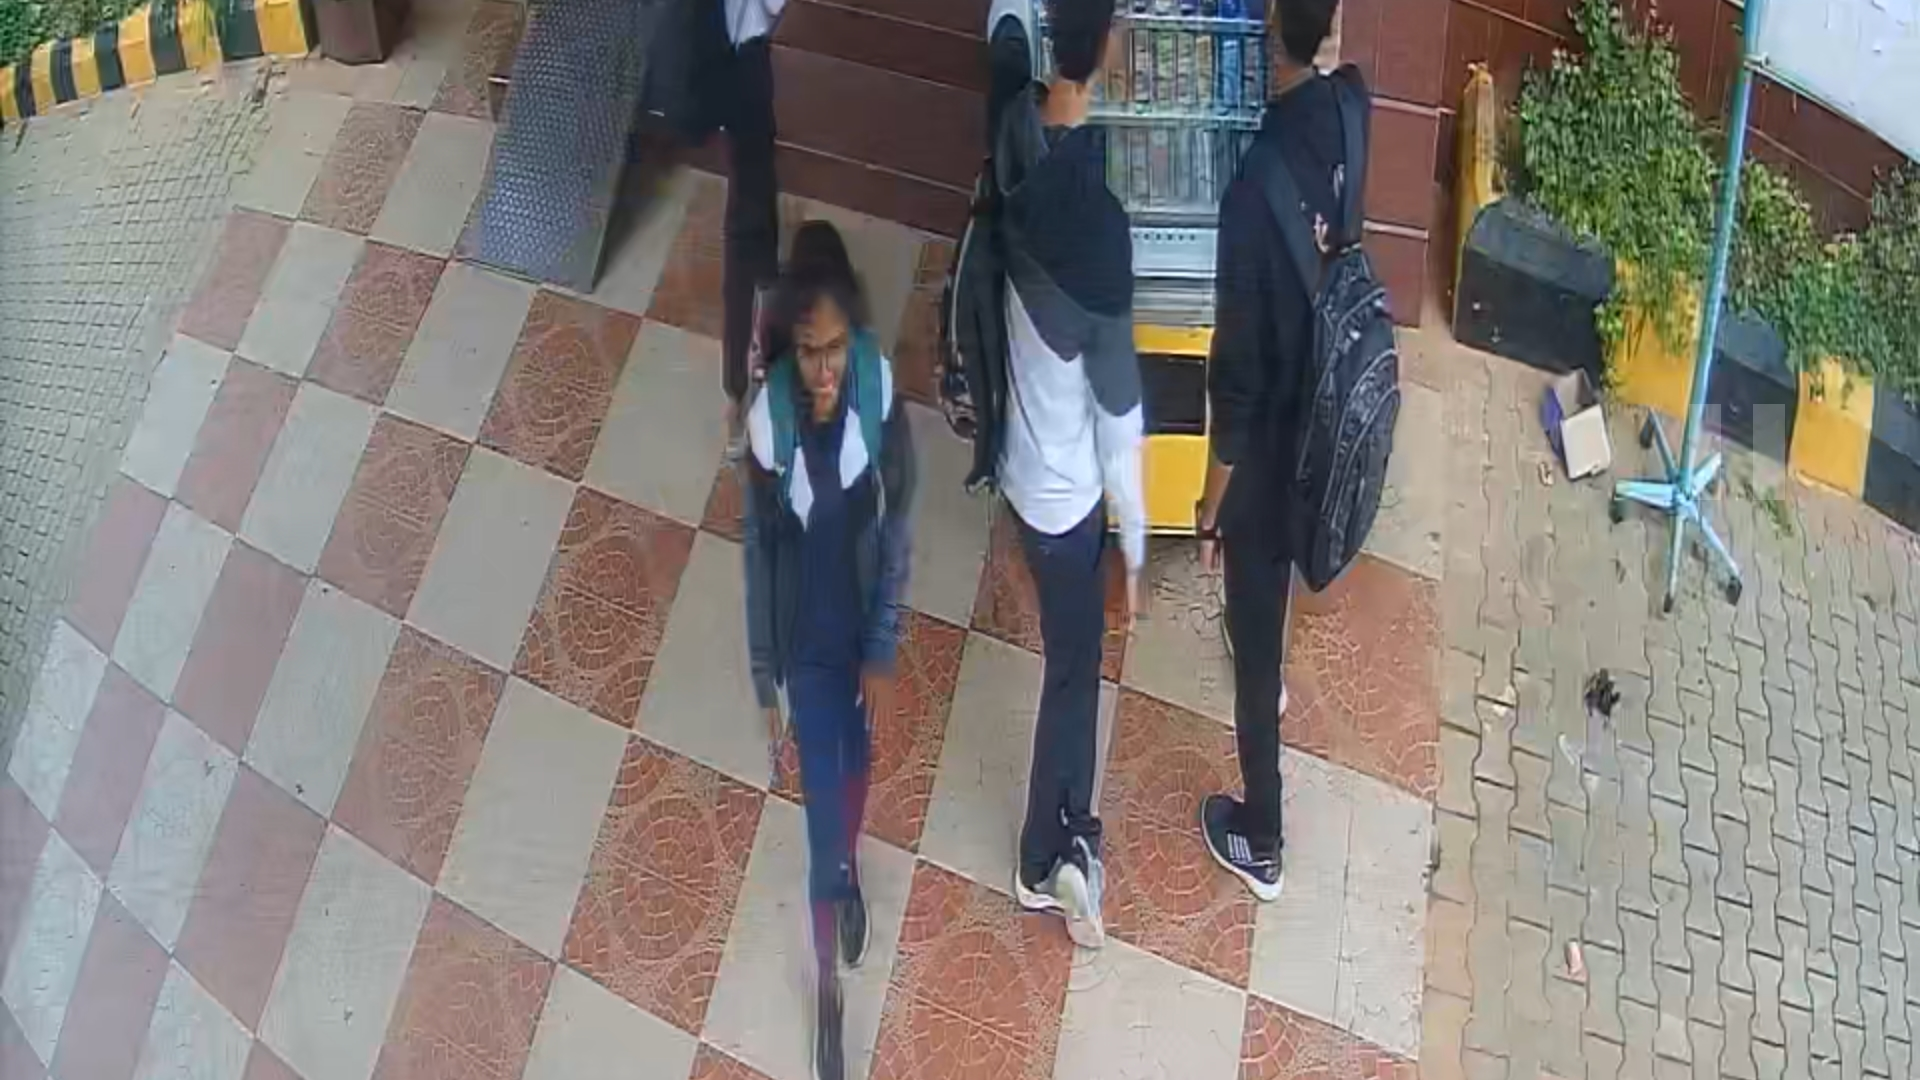intruder: (752, 218, 928, 1080)
